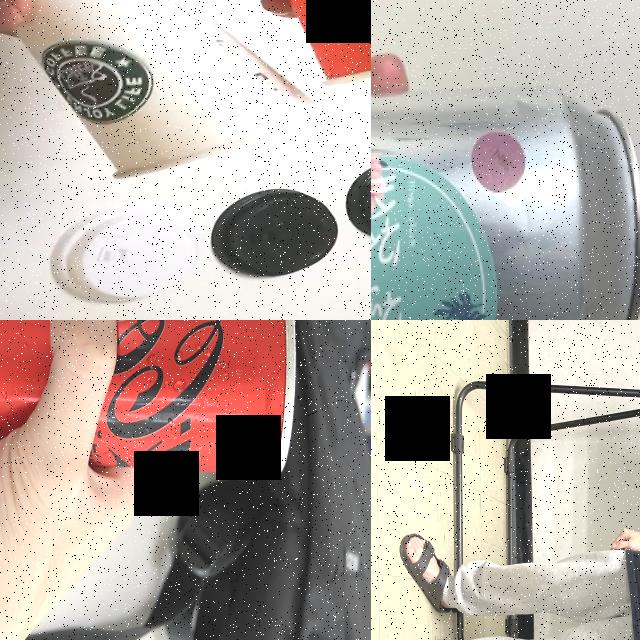can: (371, 85, 640, 320), (0, 320, 297, 480)
cup: (7, 0, 331, 179)
